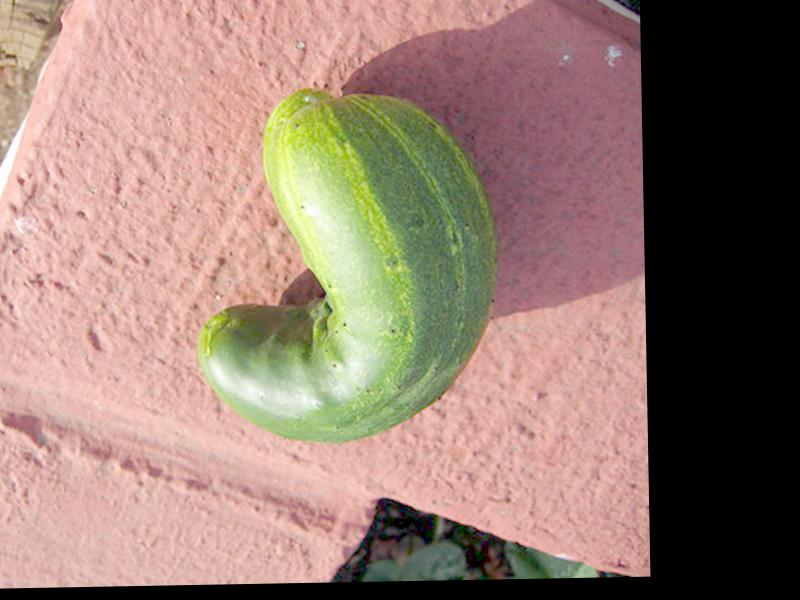Cucumber: (189, 87, 498, 445)
